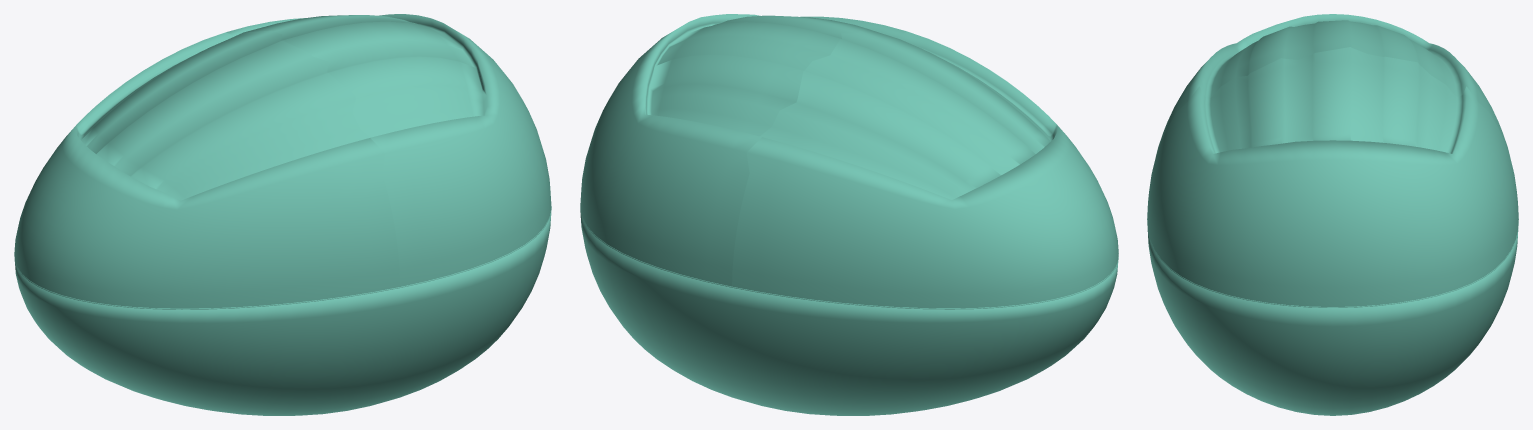
The model's file is Slime Egg Simulation 1.fbx.
The picture shows the model from 3 angles, left to right: view 1: azimuth 30°, elevation 25°; view 2: azimuth 150°, elevation 25°; view 3: azimuth 270°, elevation 25°; orthographic projection. The views are drawn at different scales.
Visible parts, largest first — view 1: Slime Egg 1.005, Slime Egg 1.003, Slime Egg 1.004; view 2: Slime Egg 1.005, Slime Egg 1.003, Slime Egg 1.004; view 3: Slime Egg 1.004, Slime Egg 1.003, Slime Egg 1.005.
Boxes of the visible parts, x1,y1,x2,y2 form: Slime Egg 1.005: (14,30,399,309); Slime Egg 1.003: (14,206,551,415); Slime Egg 1.004: (226,14,551,287); Slime Egg 1.005: (732,29,1118,309); Slime Egg 1.003: (580,210,1118,415); Slime Egg 1.004: (580,14,906,287); Slime Egg 1.004: (1147,47,1518,307); Slime Egg 1.003: (1147,224,1518,415); Slime Egg 1.005: (1156,14,1509,155).
Bounding box in the file's own units: 3.62 × 2.47 × 2.56.
